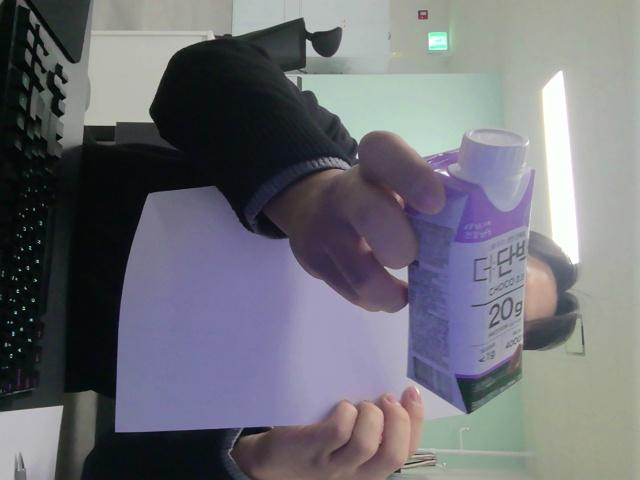milk: (407, 129, 534, 412)
